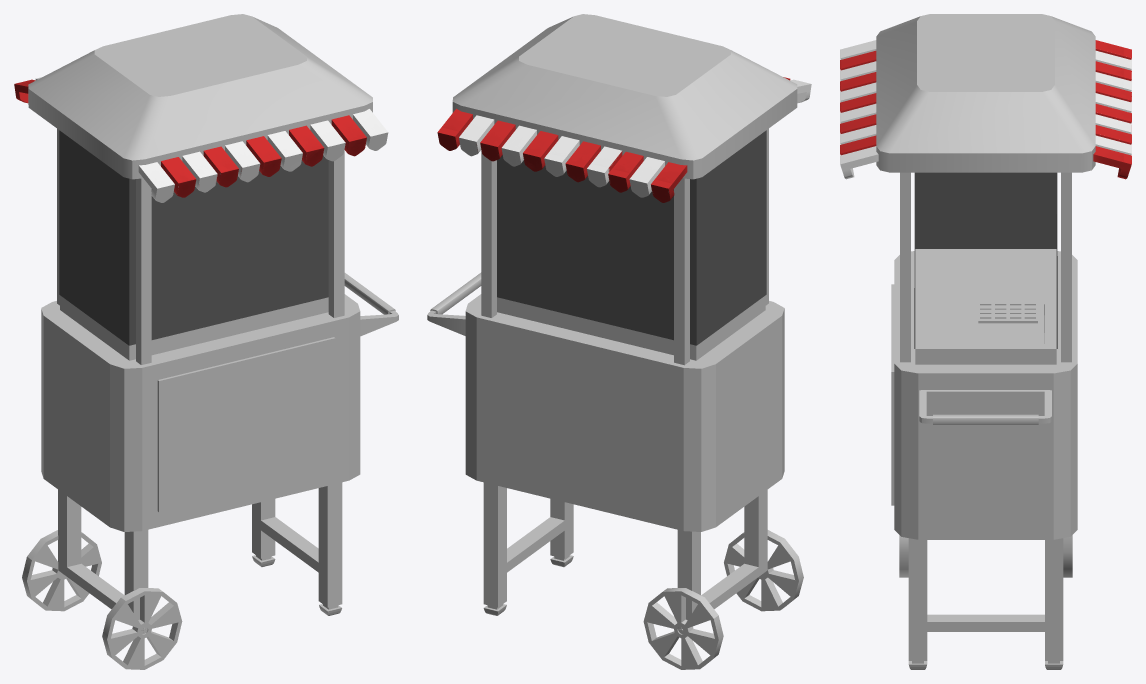
Rendered from Popcorn Machine.fbx.
The picture shows the model from 3 angles, left to right: view 1: azimuth 30°, elevation 25°; view 2: azimuth 150°, elevation 25°; view 3: azimuth 270°, elevation 25°; orthographic projection.
Parts seen in each view (by area): view 1: Cube.001, Cube.013, Cube.004, Cube.003, Cube.005, Cylinder.003, Cube.015, Cube.009; view 2: Cube.001, Cube.013, Cube.004, Cube.003, Cube.005, Cylinder.003, Cube.015, Cube.009; view 3: Cube.001, Cube.004, Cube.013, Cube.005, Cube.003, Cube.015, Cube.009, Cylinder.003.
Part boxes in pixels (bbox=[...]): Cube.001: bbox=[41, 294, 360, 531]; Cube.013: bbox=[59, 130, 328, 345]; Cube.004: bbox=[28, 14, 372, 179]; Cube.003: bbox=[58, 482, 342, 620]; Cube.005: bbox=[14, 77, 388, 202]; Cylinder.003: bbox=[22, 530, 182, 669]; Cube.015: bbox=[57, 129, 344, 364]; Cube.009: bbox=[344, 273, 398, 336]; Cube.001: bbox=[465, 294, 784, 531]; Cube.013: bbox=[497, 130, 766, 345]; Cube.004: bbox=[452, 14, 797, 179]; Cube.003: bbox=[483, 482, 767, 620]; Cube.005: bbox=[437, 77, 811, 202]; Cylinder.003: bbox=[643, 530, 803, 669]; Cube.015: bbox=[481, 128, 768, 365]; Cube.009: bbox=[427, 272, 481, 335]; Cube.001: bbox=[891, 249, 1077, 539]; Cube.004: bbox=[876, 14, 1095, 172]; Cube.013: bbox=[914, 172, 1057, 348]; Cube.005: bbox=[840, 40, 1131, 179]; Cube.003: bbox=[908, 538, 1063, 669]; Cube.015: bbox=[900, 172, 1071, 362]; Cube.009: bbox=[919, 390, 1051, 424]; Cylinder.003: bbox=[899, 535, 1072, 577].
Size of the model in its own units: 357 by 625 by 290.
